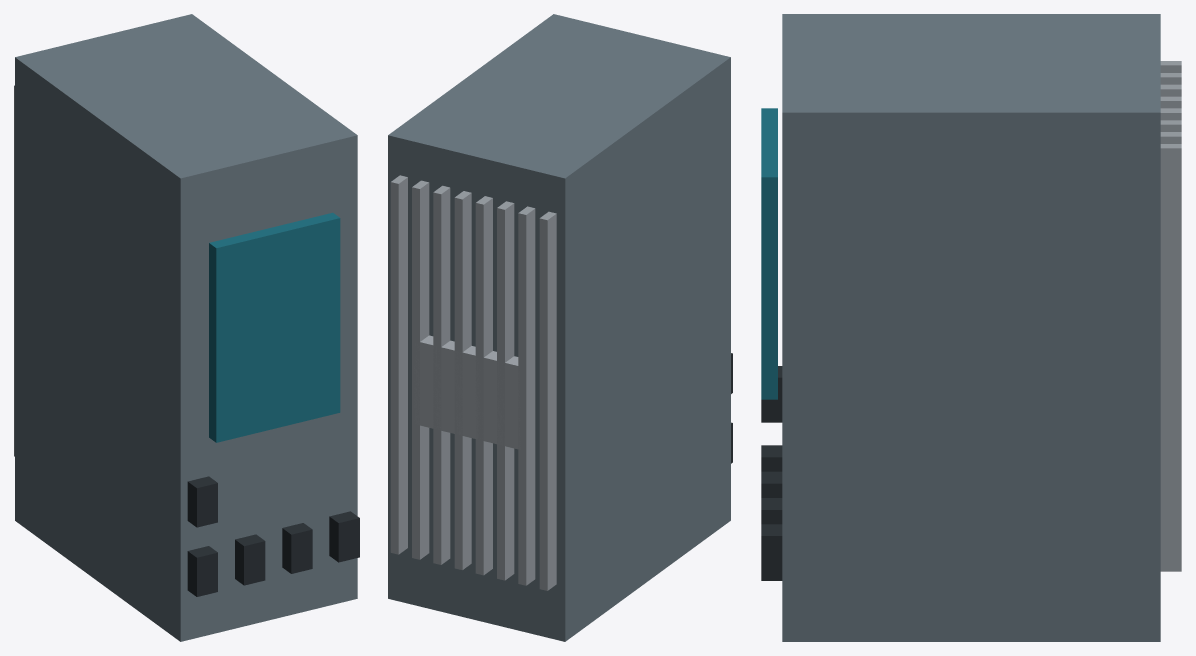
3 views of the same model, side by side, from view 1: azimuth 30°, elevation 25°; view 2: azimuth 150°, elevation 25°; view 3: azimuth 270°, elevation 25° (orthographic). The views are drawn at different scales.
Parts seen in each view (by area): view 1: Body, Display, Connector3, Connector1, Connector2, Connector4, Connector0; view 2: Body, RearMount, Fin0, Fin7, Fin1, Fin5, Fin4, Fin3, Fin2, Fin6; view 3: Body, Fin7, Display, Connector3, Connector4, Connector0, Connector1, Connector2.
Boxes of the visible parts, x1,y1,x2,y2 form: Body: [15, 14, 357, 641]; Display: [209, 212, 340, 442]; Connector3: [329, 511, 359, 562]; Connector1: [235, 534, 265, 585]; Connector2: [282, 523, 312, 573]; Connector4: [187, 476, 217, 527]; Connector0: [187, 546, 217, 596]; Body: [388, 14, 730, 641]; RearMount: [414, 335, 520, 449]; Fin0: [539, 211, 556, 590]; Fin7: [390, 175, 407, 554]; Fin1: [518, 206, 535, 585]; Fin5: [433, 185, 450, 564]; Fin4: [454, 191, 471, 570]; Fin3: [475, 196, 492, 575]; Fin2: [497, 201, 514, 580]; Fin6: [412, 180, 429, 559]; Body: [782, 14, 1160, 641]; Fin7: [1160, 144, 1181, 571]; Display: [761, 108, 777, 399]; Connector3: [761, 524, 782, 580]; Connector4: [761, 366, 782, 422]; Connector0: [761, 445, 782, 471]; Connector1: [761, 471, 782, 497]; Connector2: [761, 498, 782, 524].
Bounding box in the file's own units: 0.1 × 0.25 × 0.18.
